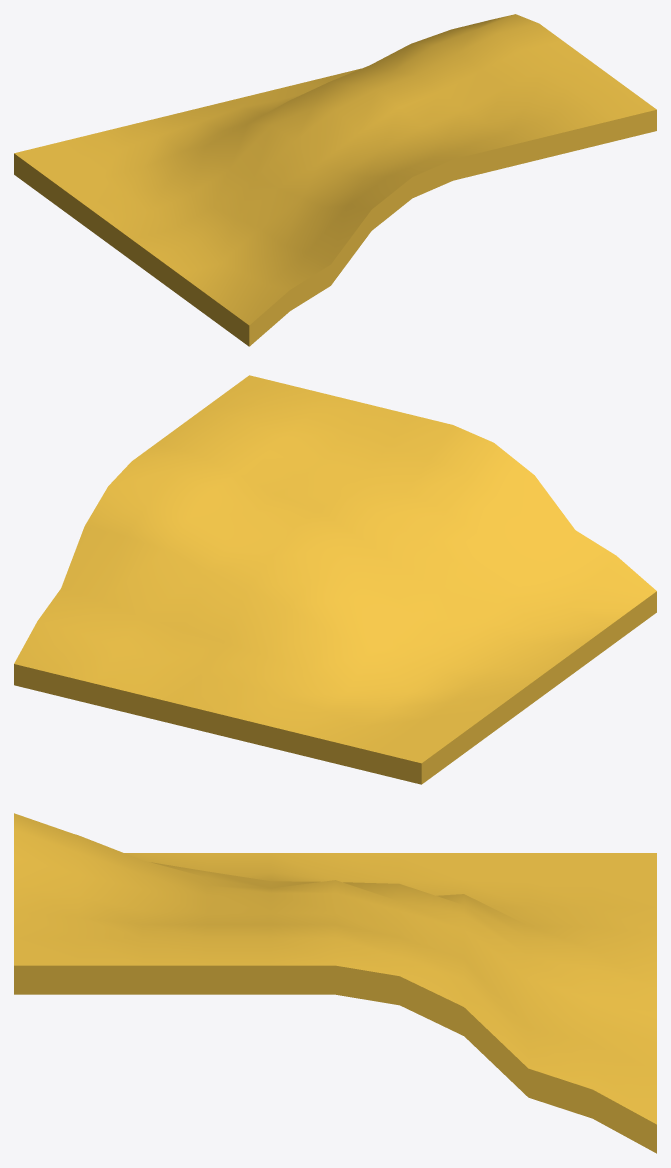
File: Flach - Unten - Ecke b - b.fbx
The picture shows the model from 3 angles, top to bottom: view 1: azimuth 30°, elevation 25°; view 2: azimuth 150°, elevation 25°; view 3: azimuth 270°, elevation 25°; orthographic projection. The views are drawn at different scales.
Visible parts, largest first — view 1: Flach - Unten - Ecke b - b; view 2: Flach - Unten - Ecke b - b; view 3: Flach - Unten - Ecke b - b.
Boxes of the visible parts, x1=… form: Flach - Unten - Ecke b - b: x1=14, y1=14, x2=656, y2=346; Flach - Unten - Ecke b - b: x1=14, y1=375, x2=656, y2=784; Flach - Unten - Ecke b - b: x1=14, y1=813, x2=656, y2=1153.
Size of the model in its own units: 394 by 127 by 394.
